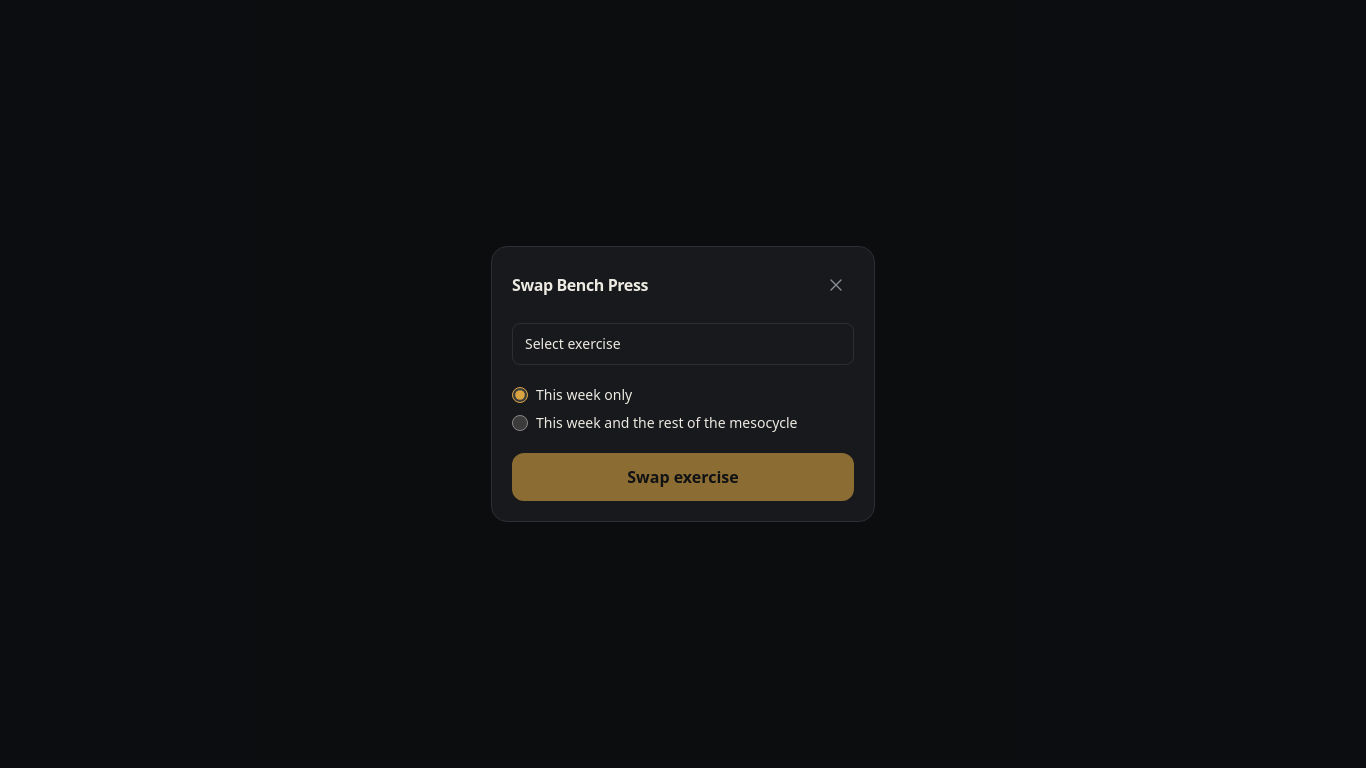
Test: ExerciseSwapSheet › disables the swap button until a different exercise is picked
Check: the button "Swap exercise" is disabled, box [512, 453, 854, 501]
Click the button "Select exercise": [573, 344] box [512, 323, 854, 365]
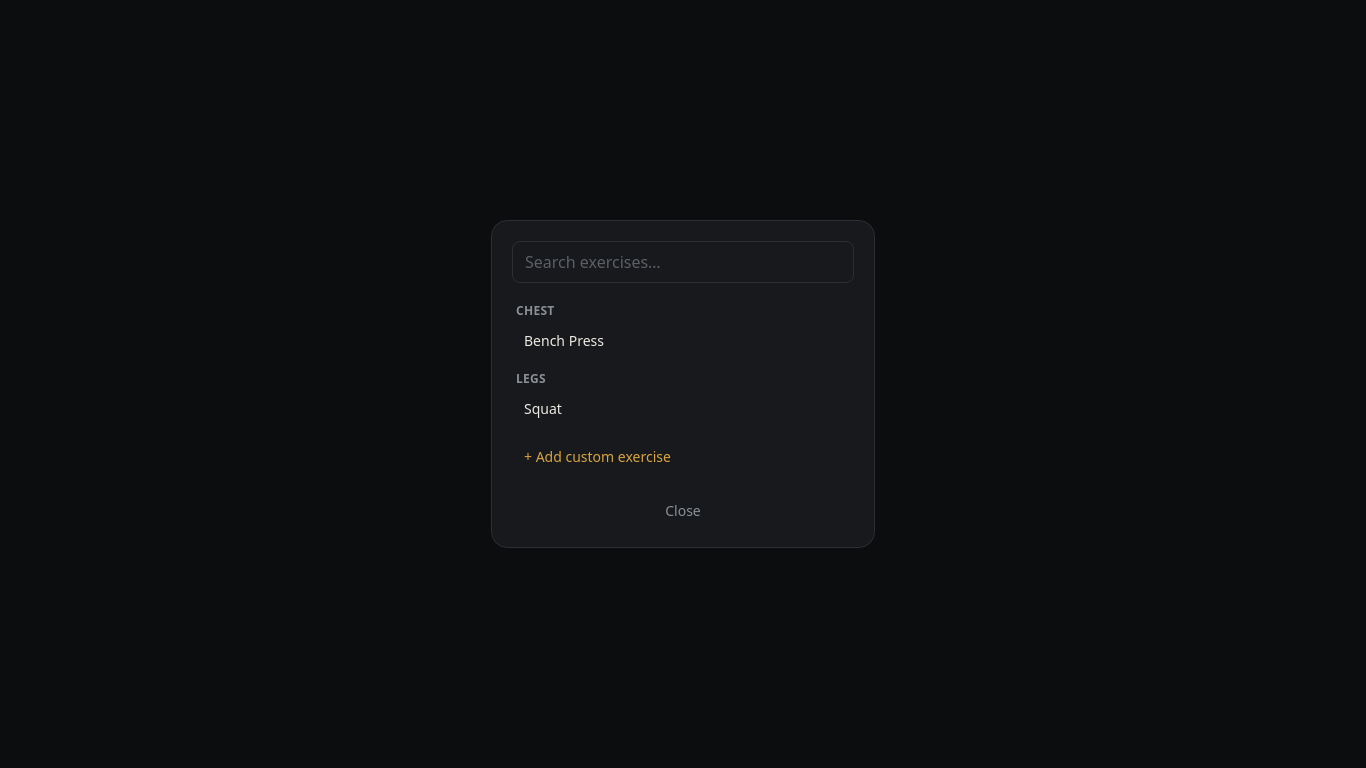
Click the button "Squat": [543, 408] box [512, 391, 854, 427]
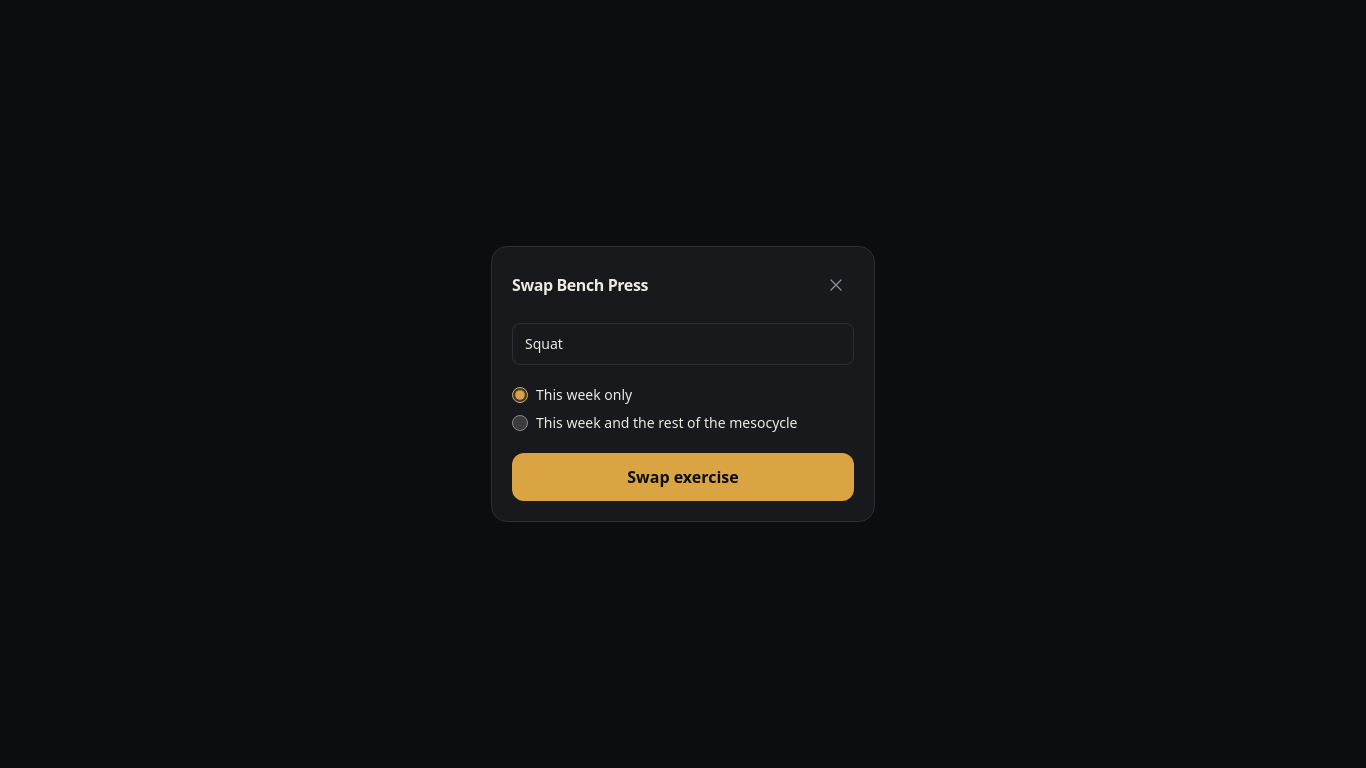
Check: the button "Swap exercise" is enabled, box [512, 453, 854, 501]
